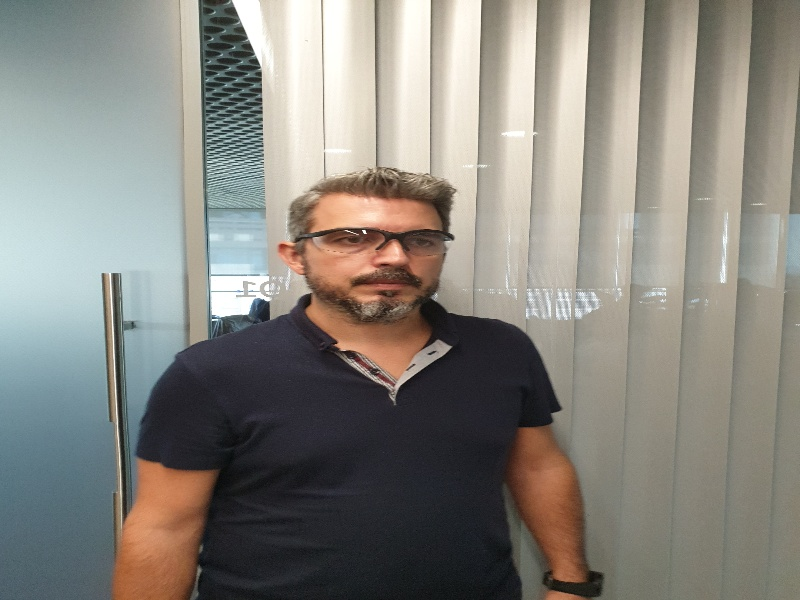Gozluk: (293, 227, 453, 255)
